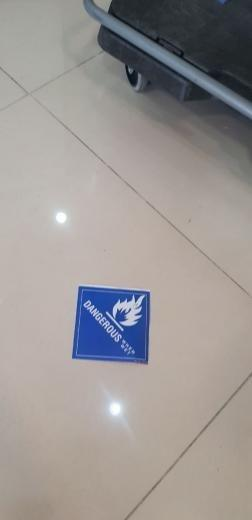dangerous-when-wet: (71, 284, 153, 362)
